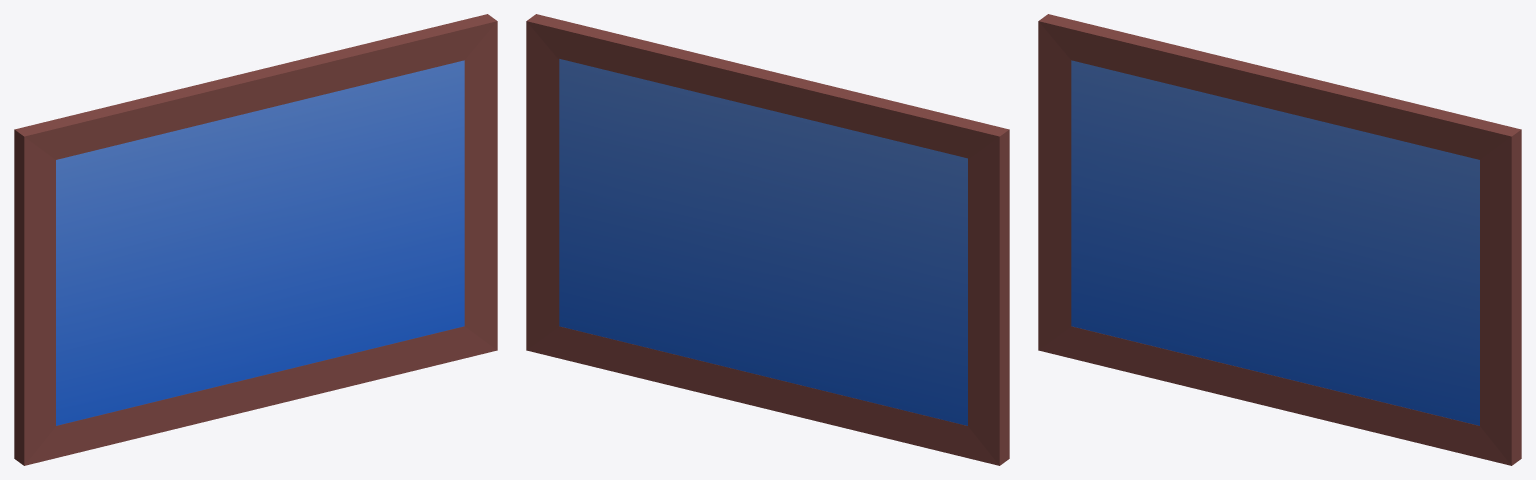
The model's file is Room_Fence.fbx.
3 views of the same model, side by side, from view 1: azimuth 30°, elevation 25°; view 2: azimuth 150°, elevation 25°; view 3: azimuth 330°, elevation 25° (orthographic).
Visible parts, largest first — view 1: Glass, Fence; view 2: Glass, Fence; view 3: Glass, Fence.
Part boxes in pixels (x1,y1,x2,y2): Glass: (56,60,464,425); Fence: (14,14,497,465); Glass: (559,59,967,425); Fence: (526,14,1009,465); Glass: (1071,60,1479,425); Fence: (1038,14,1521,465).
Size of the model in its own units: 1 by 0.665 by 0.0356.
